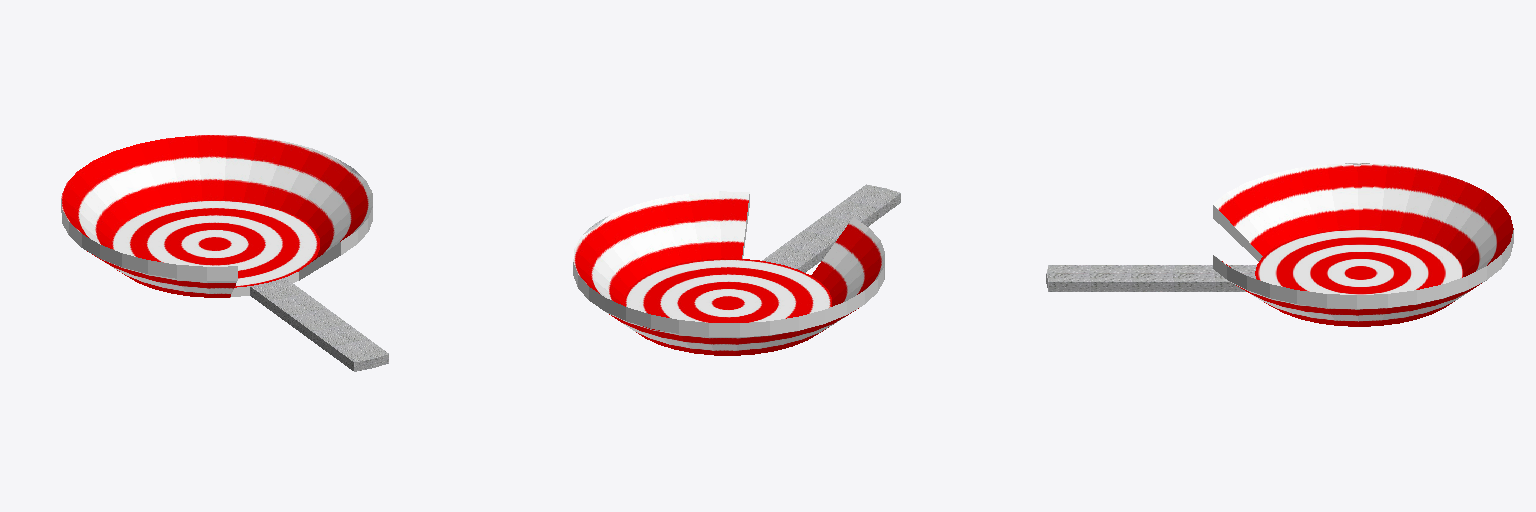
The picture shows the model from 3 angles: view 1: azimuth 30°, elevation 25°; view 2: azimuth 150°, elevation 25°; view 3: azimuth 270°, elevation 25°; orthographic projection.
Parts seen in each view (by area): view 1: Circle_Circle_Material_lolipop.jpg; view 2: Circle_Circle_Material_lolipop.jpg; view 3: Circle_Circle_Material_lolipop.jpg.
Boxes of the visible parts, box(x1,y1,x2,y2) form: Circle_Circle_Material_lolipop.jpg: box(61, 135, 388, 371); Circle_Circle_Material_lolipop.jpg: box(573, 184, 900, 355); Circle_Circle_Material_lolipop.jpg: box(1046, 163, 1513, 326).
Bounding box in the file's own units: 27 × 5.12 × 40.33.
Materials: 1 (1 with a texture image).